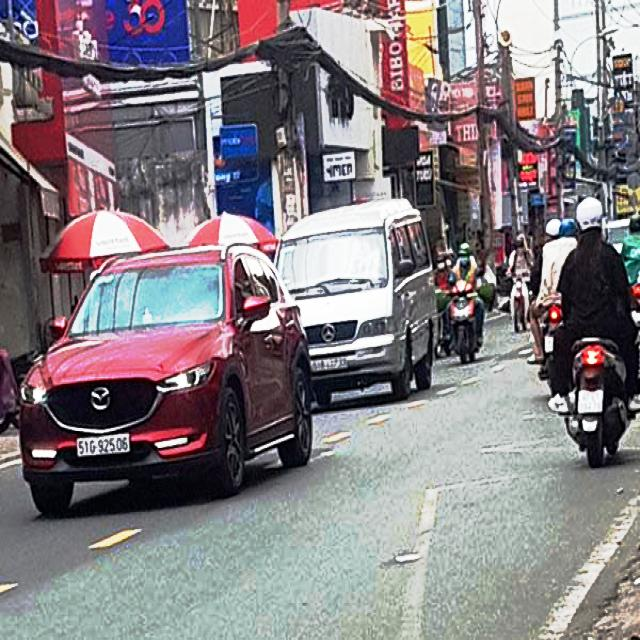license_plate: (77, 434, 132, 458)
